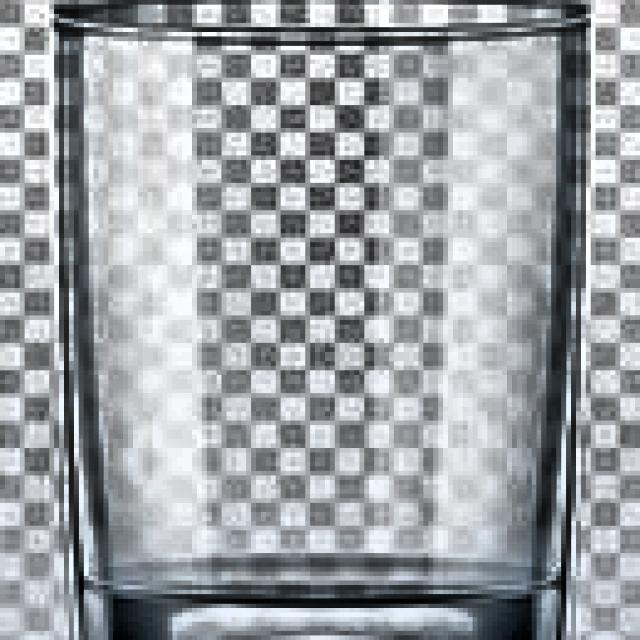glass: (55, 0, 595, 640)
